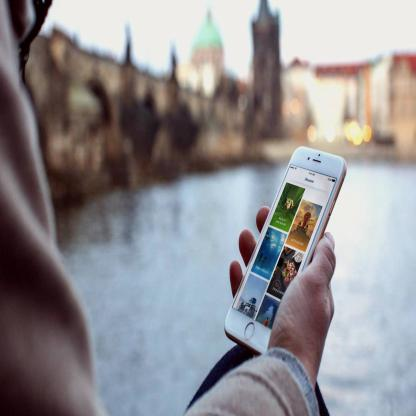smartphone: (223, 145, 347, 357)
